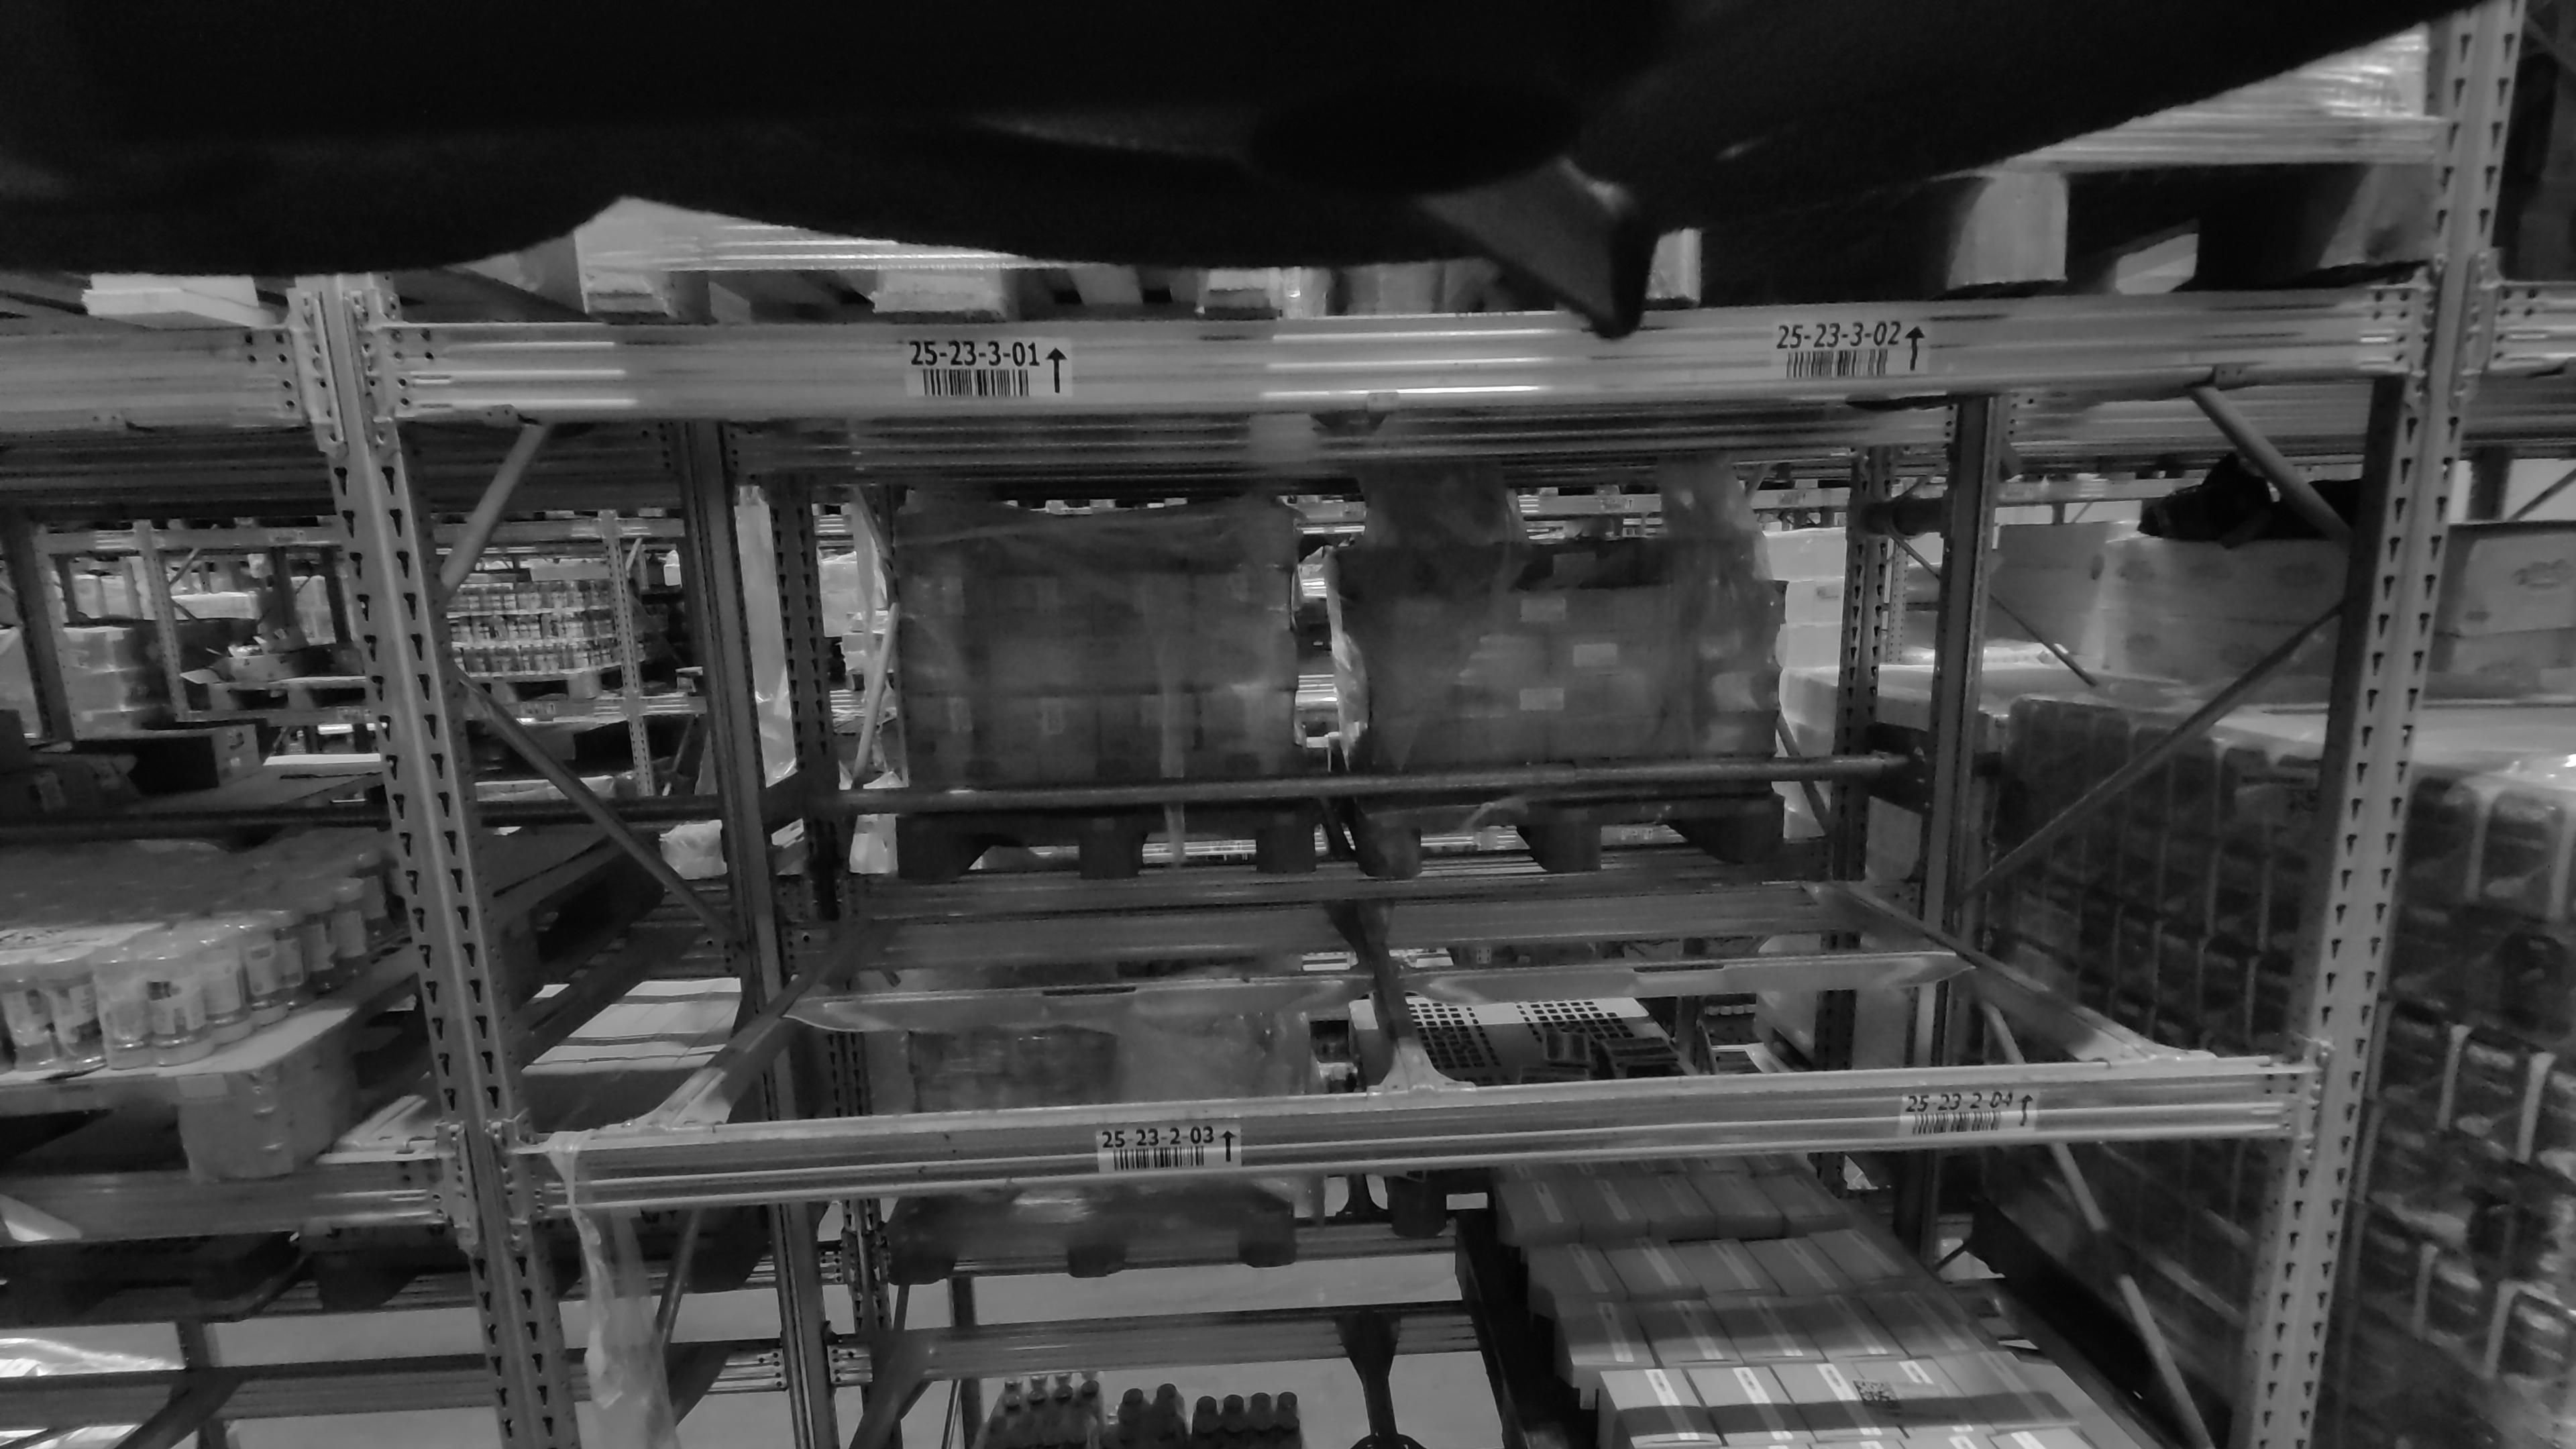empty-shelf: (625, 455, 1387, 1118), (1433, 412, 2121, 1067)
